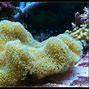bleached_corals: (0, 21, 82, 86)
